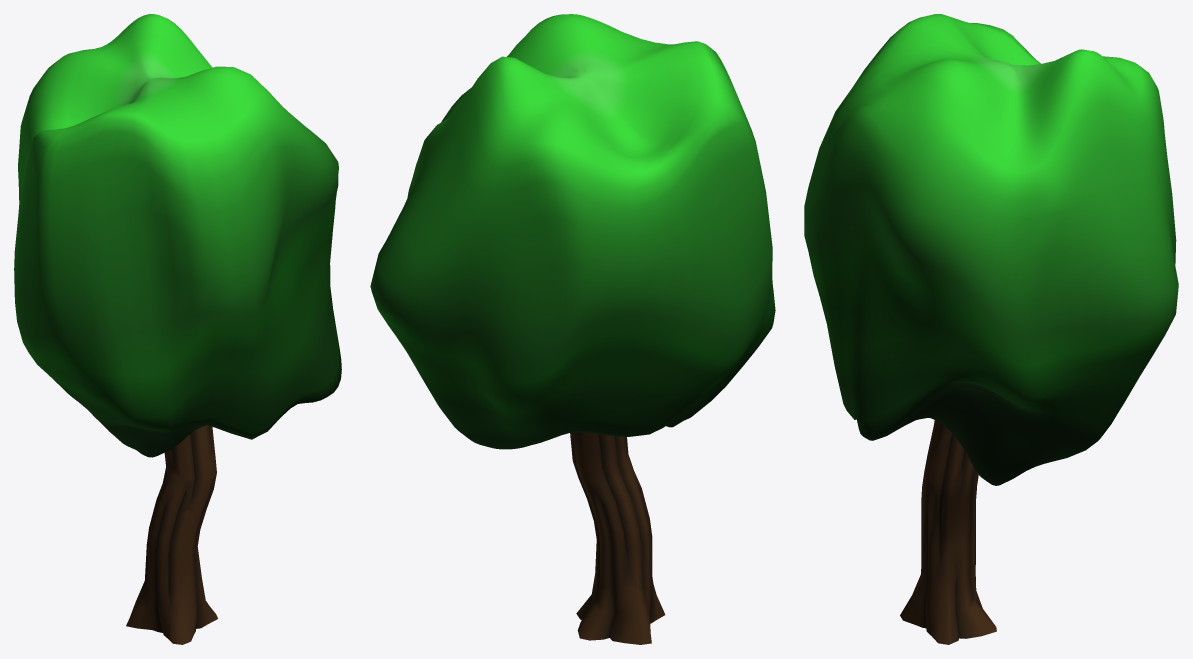
The model's file is Curved Tree 2.fbx.
3 views of the same model, side by side, from view 1: azimuth 30°, elevation 25°; view 2: azimuth 150°, elevation 25°; view 3: azimuth 270°, elevation 25° (orthographic). The views are drawn at different scales.
Visible parts, largest first — view 1: polySurface116; view 2: polySurface116; view 3: polySurface116.
Boxes of the visible parts, x1,y1,x2,y2 form: polySurface116: (14, 14, 341, 644); polySurface116: (370, 14, 775, 644); polySurface116: (804, 14, 1178, 644).
Size of the model in its own units: 8.56 by 14.73 by 8.42.
